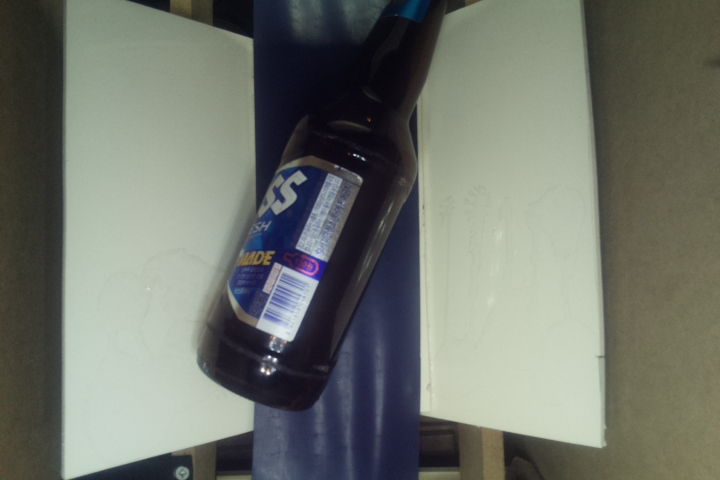makju: (198, 1, 454, 412)
